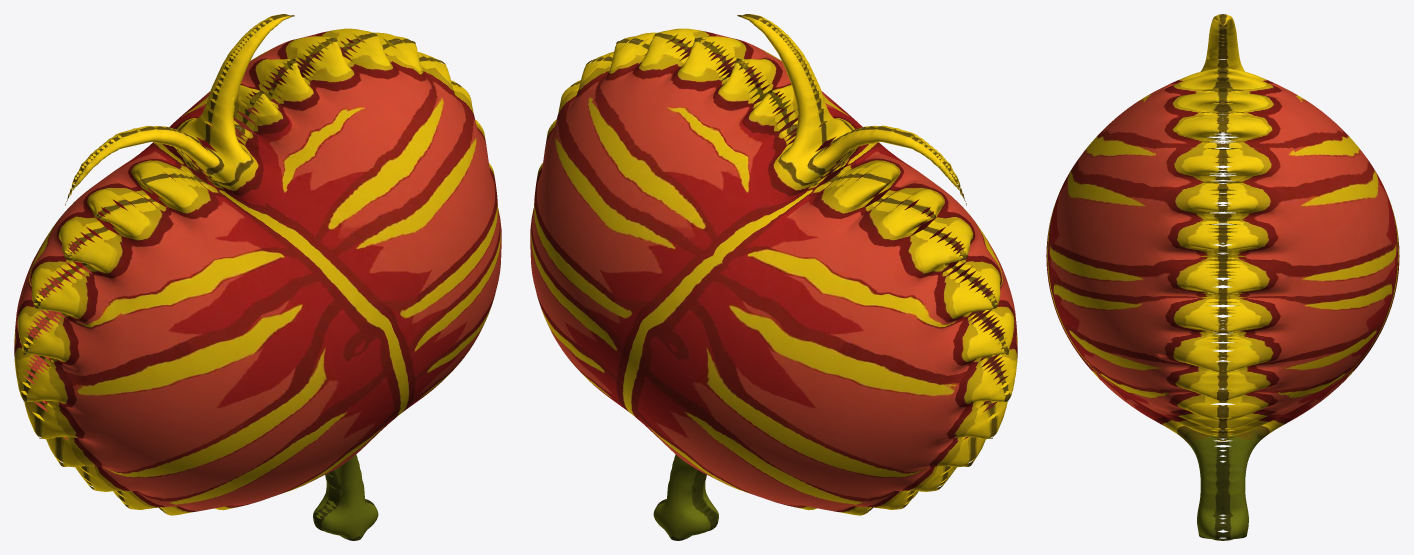
The model's file is split_pod_plant.glb.
3 views of the same model, side by side, from view 1: azimuth 30°, elevation 25°; view 2: azimuth 150°, elevation 25°; view 3: azimuth 270°, elevation 25° (orthographic). The views are drawn at different scales.
Parts seen in each view (by area): view 1: split_pod_plant; view 2: split_pod_plant; view 3: split_pod_plant.
Part boxes in pixels (<box>): split_pod_plant: <box>14,14,501,540</box>; split_pod_plant: <box>530,14,1017,540</box>; split_pod_plant: <box>1046,14,1399,540</box>.
Size of the model in its own units: 0.9886 by 1.07 by 0.703.
1 material, 1 textured.
